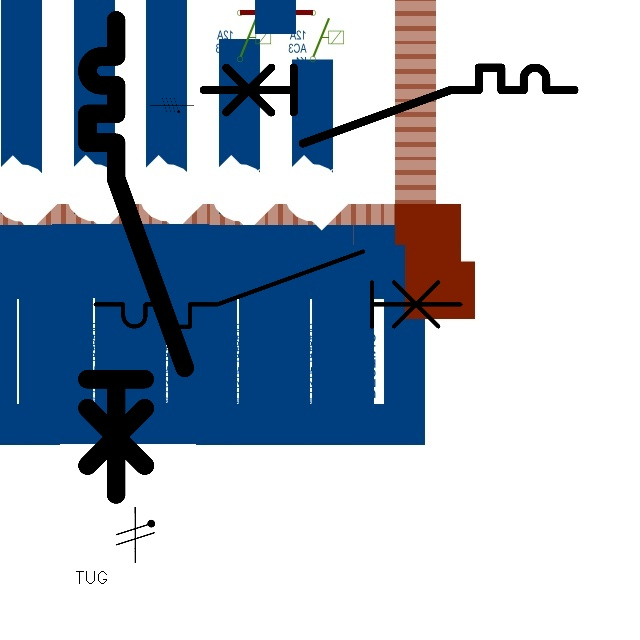interruptor_termomagnetico: (75, 8, 197, 506), (194, 58, 584, 153), (86, 242, 470, 336)
